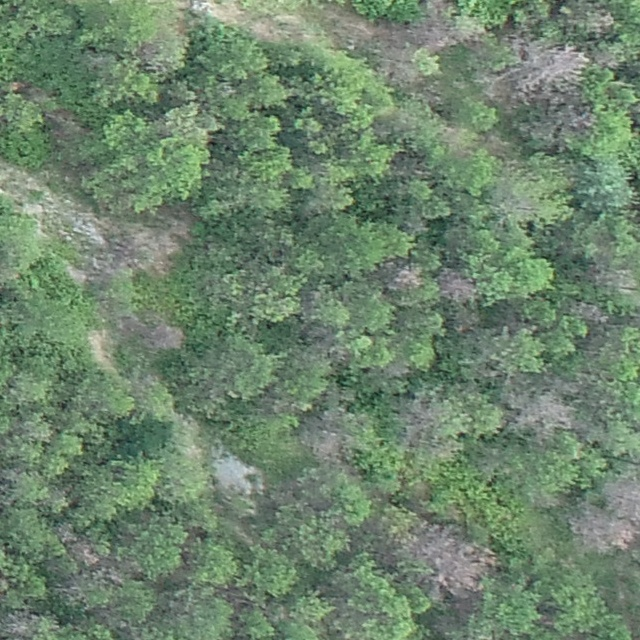unhealthy: (507, 42, 589, 105), (420, 529, 496, 595), (512, 392, 576, 439), (55, 525, 104, 570), (604, 471, 640, 528), (569, 509, 611, 555), (399, 397, 439, 442), (302, 423, 345, 464), (412, 18, 456, 52), (472, 67, 508, 108), (589, 262, 635, 294), (438, 269, 477, 303), (578, 4, 618, 36), (145, 322, 186, 352), (2, 609, 37, 639), (568, 299, 608, 323), (560, 105, 595, 131), (390, 264, 424, 290), (612, 526, 640, 556), (594, 48, 621, 70), (423, 0, 453, 14)
